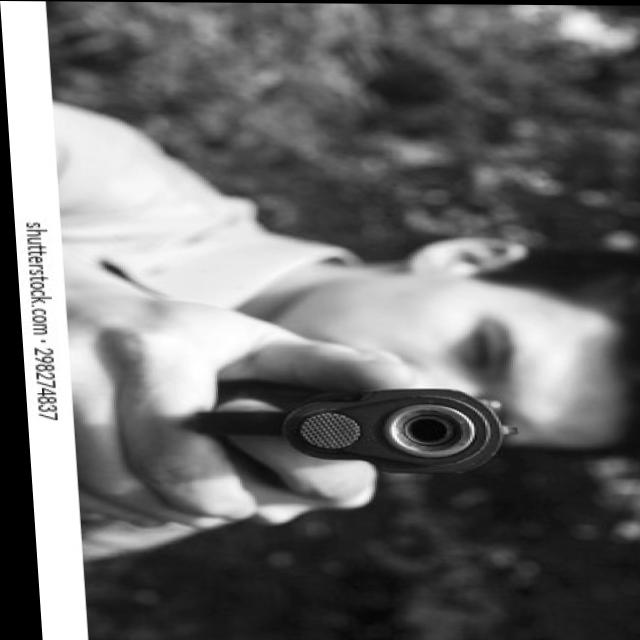handgun: (137, 372, 518, 476)
